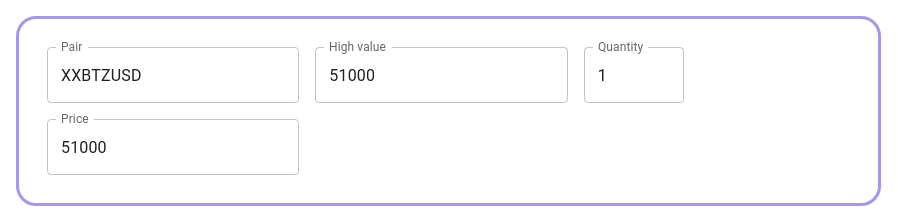
Currency › calculates total price based on quantity
The image size is (898, 223).
Replace the text in the number field labelled "Quantity" with "3" at {"x": 634, "y": 75}, box [584, 47, 684, 103]
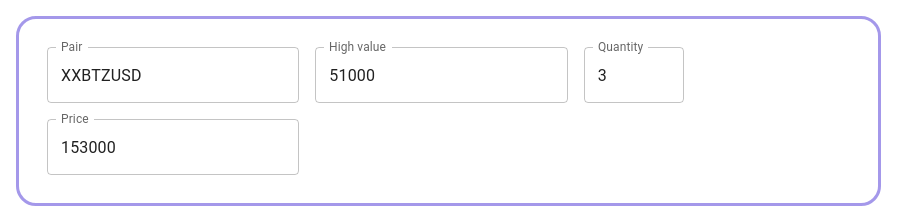
Result: the field showing "153000" is shown at [47, 119, 299, 175]
